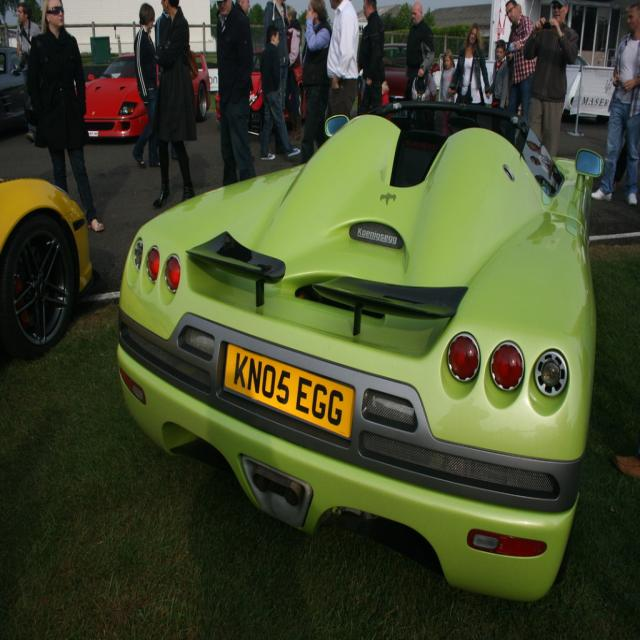car: (114, 97, 604, 602)
